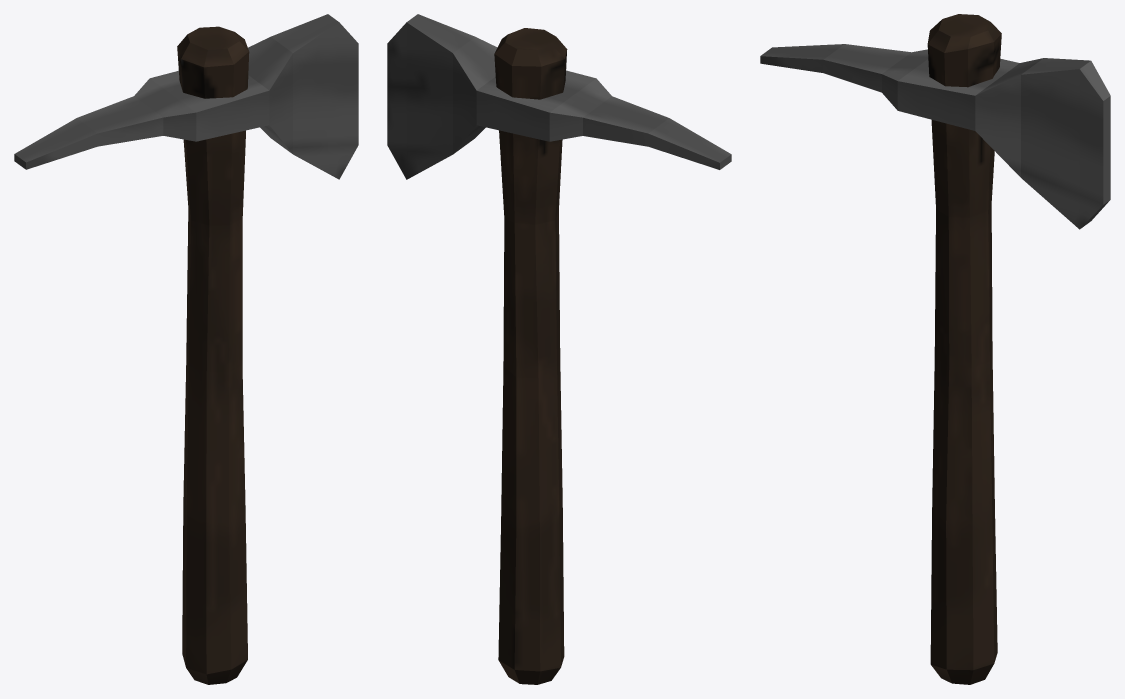
The model's file is Hoeaxe.fbx.
The picture shows the model from 3 angles, left to right: view 1: azimuth 30°, elevation 25°; view 2: azimuth 150°, elevation 25°; view 3: azimuth 330°, elevation 25°; orthographic projection.
Visible parts, largest first — view 1: Handle, Hoe; view 2: Handle, Hoe; view 3: Handle, Hoe.
Part boxes in pixels (x1,y1,x2,y2): Handle: (177, 26, 249, 684); Hoe: (14, 14, 358, 179); Handle: (494, 28, 567, 684); Hoe: (387, 14, 731, 179); Handle: (927, 14, 1001, 684); Hoe: (760, 44, 1110, 229).
Size of the model in its own units: 0.4428 by 0.8062 by 0.1072.
